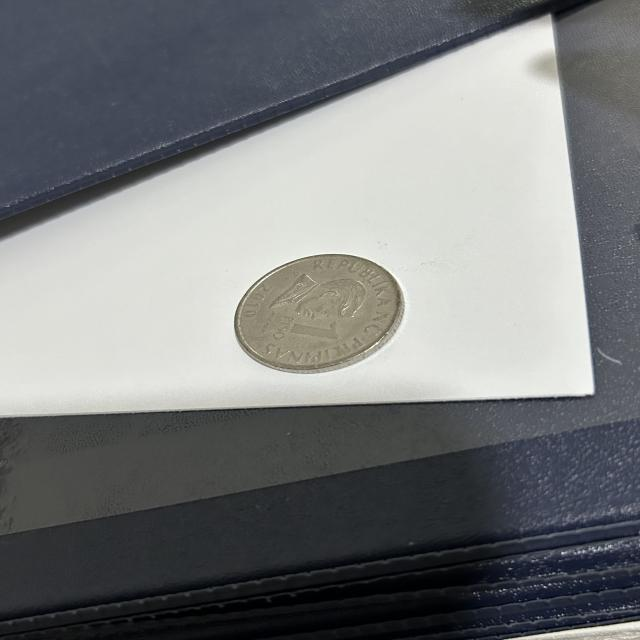1_Old_Front: (268, 314, 346, 355)
